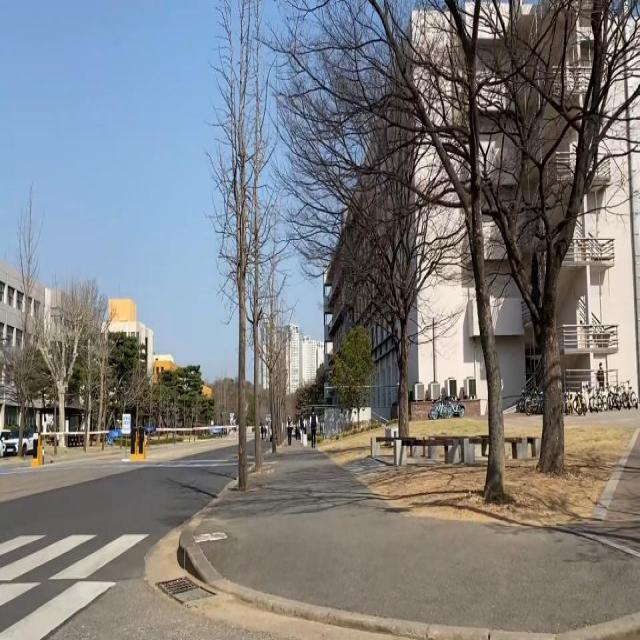sidewalk: (180, 428, 640, 640)
